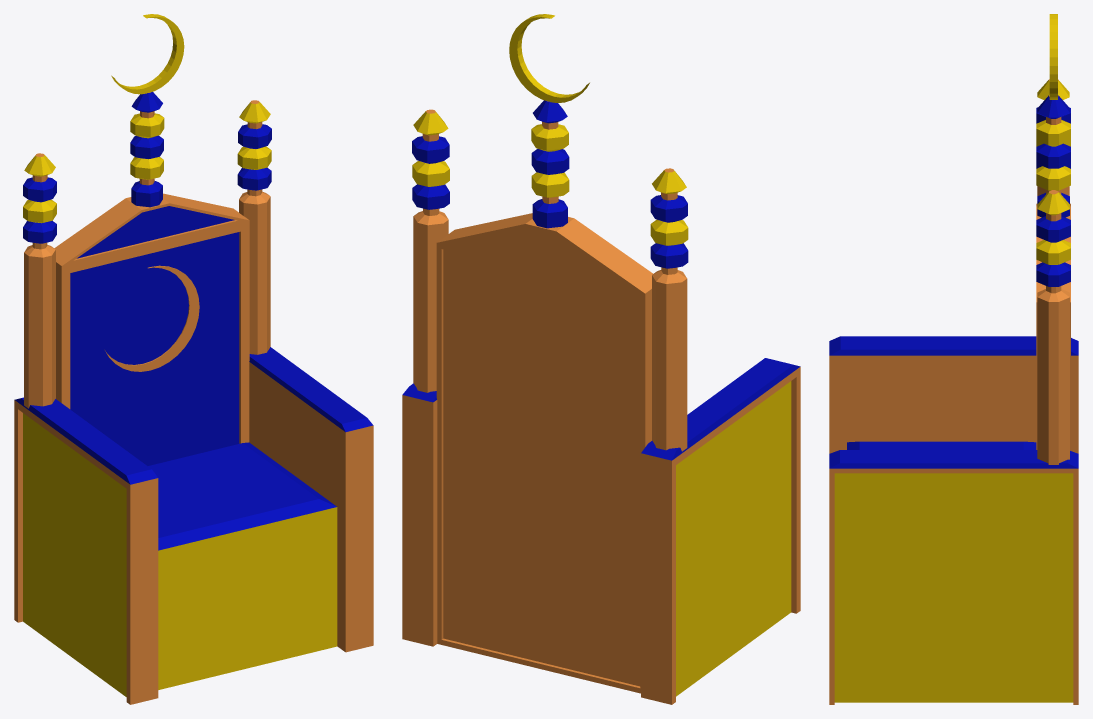
Rendered from moon_chair.fbx.
3 renders of one model, left to right at view 1: azimuth 30°, elevation 25°; view 2: azimuth 150°, elevation 25°; view 3: azimuth 270°, elevation 25°, orthographic. The views are drawn at different scales.
Visible parts, largest first — view 1: Cube.015, Cube.002; view 2: Cube.015; view 3: Cube.015.
Part boxes in pixels (left/top/right/bottom): Cube.015: left=14, top=14, right=373, bottom=704; Cube.002: left=105, top=265, right=199, bottom=371; Cube.015: left=402, top=14, right=800, bottom=704; Cube.015: left=829, top=14, right=1078, bottom=704.
Size of the model in its own units: 675 by 1541 by 556.
